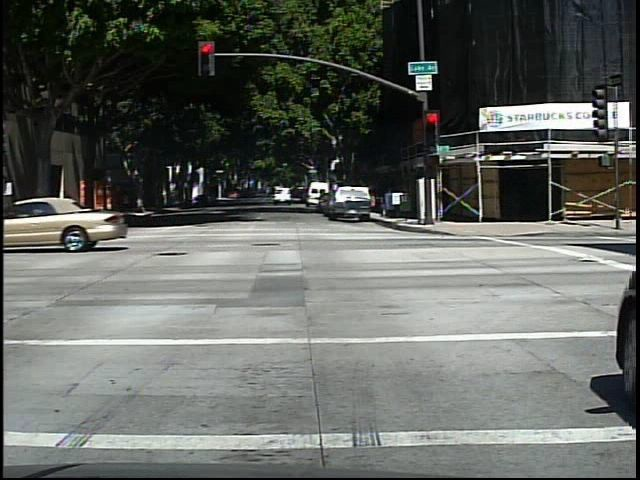person: (53, 186, 83, 239)
